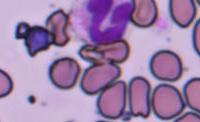N: (68, 0, 132, 46)
